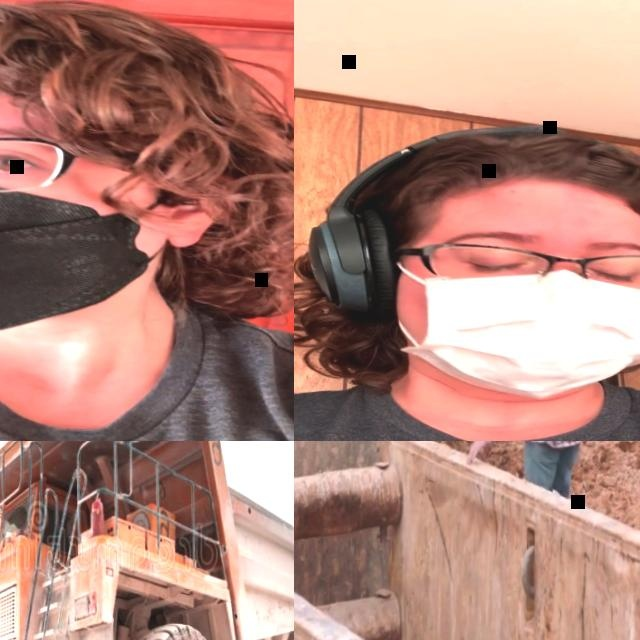Hardhat: (367, 121, 640, 220)
Mask: (0, 165, 189, 343), (389, 263, 640, 395)
NO-Hardhat: (0, 0, 236, 121)
NO-Safety Vest: (0, 304, 294, 441)
Person: (0, 0, 294, 441), (294, 115, 640, 441)
machinery: (0, 441, 294, 640)
